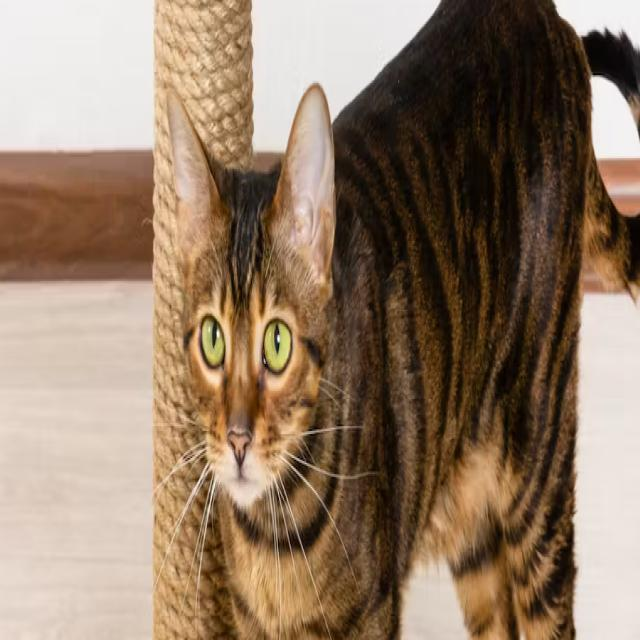Toyger: (160, 0, 640, 640)
